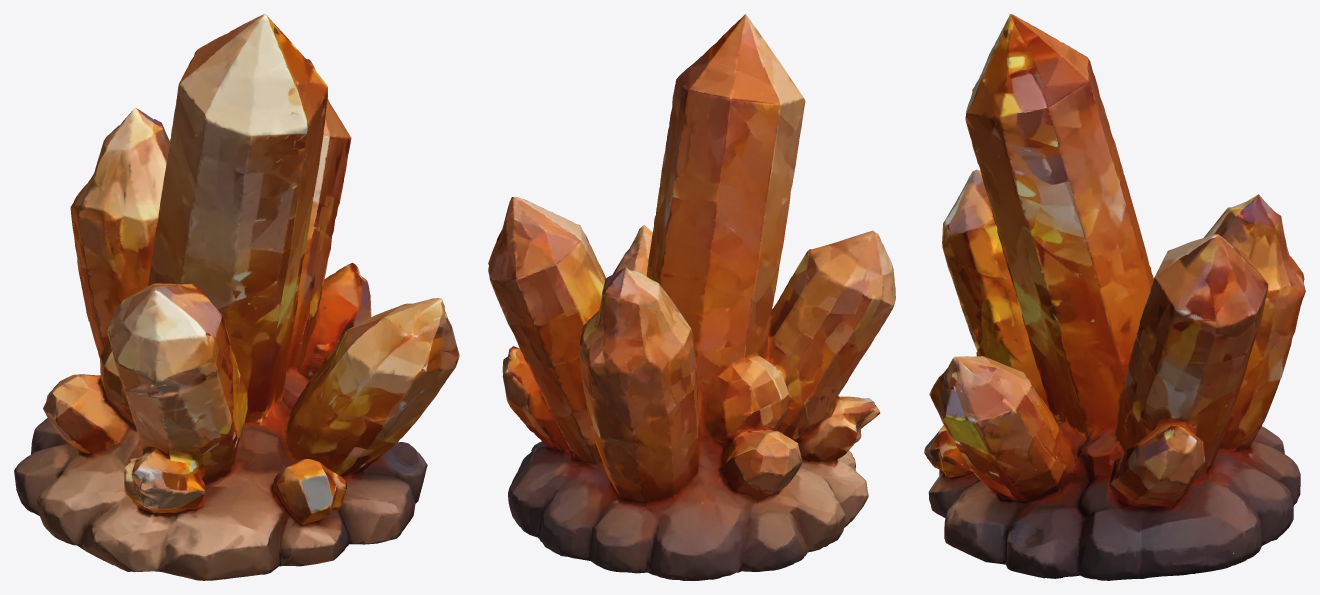
Rendered from gas-crystal-small.glb.
3 renders of one model, left to right at view 1: azimuth 30°, elevation 25°; view 2: azimuth 150°, elevation 25°; view 3: azimuth 270°, elevation 25°, orthographic. The views are drawn at different scales.
Visible parts, largest first — view 1: tripo_node_70153473-0b8e-48ee-a24a-beeae95bfcc8; view 2: tripo_node_70153473-0b8e-48ee-a24a-beeae95bfcc8; view 3: tripo_node_70153473-0b8e-48ee-a24a-beeae95bfcc8.
Part boxes in pixels (bbox=[...]): tripo_node_70153473-0b8e-48ee-a24a-beeae95bfcc8: bbox=[14, 14, 459, 580]; tripo_node_70153473-0b8e-48ee-a24a-beeae95bfcc8: bbox=[488, 14, 895, 580]; tripo_node_70153473-0b8e-48ee-a24a-beeae95bfcc8: bbox=[924, 14, 1305, 580].
Bounding box in the file's own units: 0.6989 × 0.9995 × 0.7049.
1 material, 1 textured.
